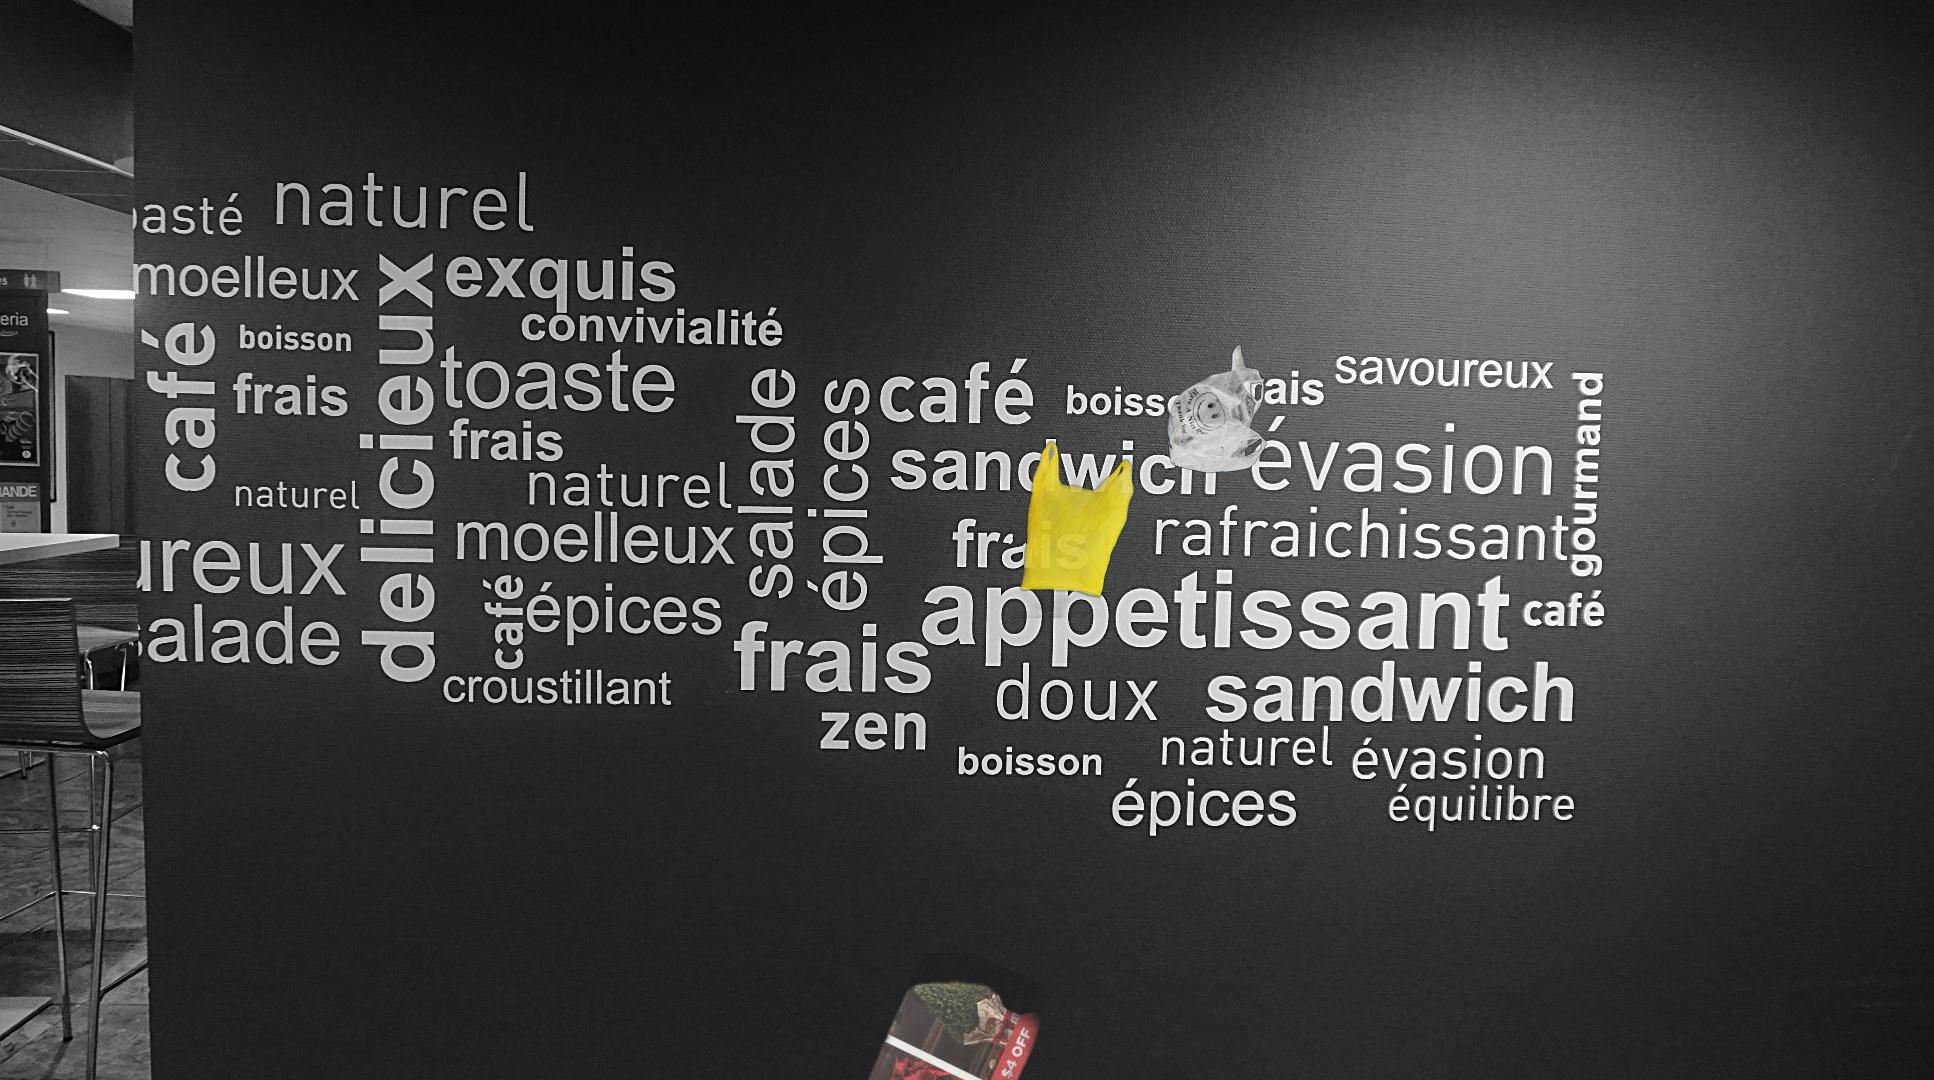paper: (796, 952, 1237, 1080)
plastic-bag: (1006, 341, 1270, 618)
